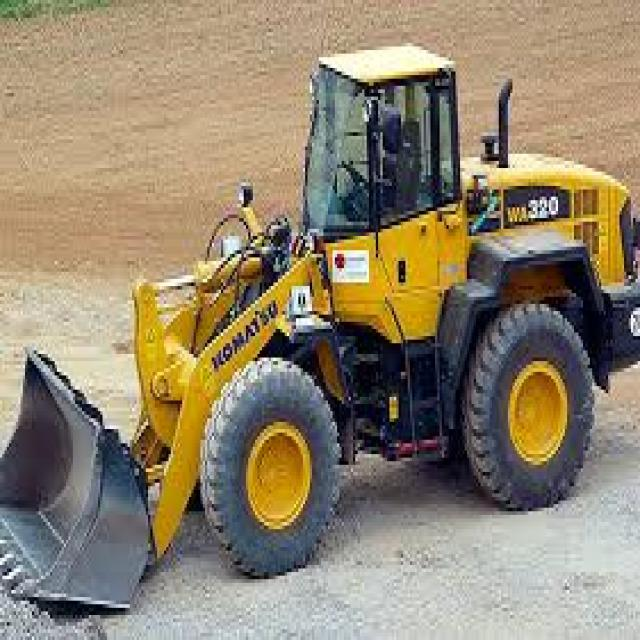buldozerpayloadergrader: (0, 41, 640, 602)
